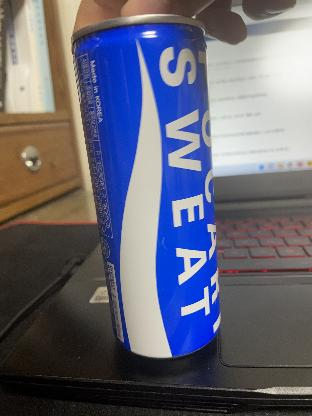Can: (70, 14, 222, 364)
